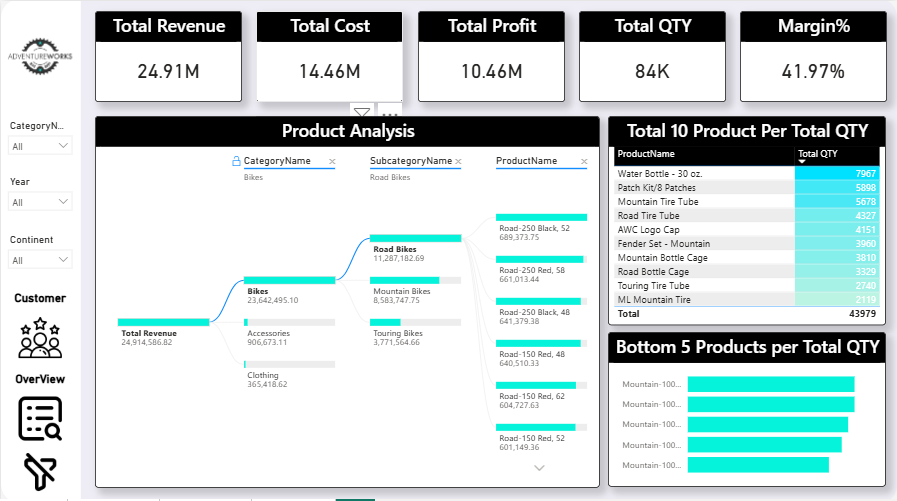

Layout of this report page (visuals, bound fields, positions):
{"tool":"powerbi","page":{"name":"Product","canvas":[1280,720],"ordinal":3},"visuals":[{"type":"card","title":"Total Revenue","fields":{"Values":["Calculation.Total Revenue"]},"box":[134.6,14.2,209.8,130.4],"z":0},{"type":"card","title":"Total Cost","fields":{"Values":["Calculation.Total Cost"]},"box":[365,14.2,209.8,130.4],"z":1000},{"type":"card","title":"Total Profit","fields":{"Values":["Calculation.Profit"]},"box":[595.3,14.2,209.8,130.4],"z":2000},{"type":"card","title":"Total QTY","fields":{"Values":["Calculation.Total QTY"]},"box":[825.6,14.2,209.8,130.4],"z":3000},{"type":"card","title":"Margin%","fields":{"Values":["Calculation.Margin Profit"]},"box":[1055.9,14.2,209.8,130.4],"z":4000},{"type":"slicer","fields":{"Values":["Dim_Product.CategoryName"]},"box":[0,164.4,112,65.2],"z":5000},{"type":"slicer","fields":{"Values":["Dim_Calendar.Date.Variation.Date Hierarchy.Year"]},"box":[0,243.8,112,65.2],"z":6000},{"type":"slicer","fields":{"Values":["Dim_Territory.Continent"]},"box":[0,327.4,112,65.2],"z":7000},{"type":"image","box":[0,14.2,112,130.4],"z":8000},{"type":"image","title":"Customer","box":[0,413.9,112,97.8],"z":9000},{"type":"image","title":"Product","box":[5.7,646.3,100.6,60.9],"z":10000},{"type":"image","title":"OverView","box":[0,530.1,112,97.8],"z":11000},{"type":"decompositionTreeVisual","title":"Product Analysis","fields":{"Analyze":["Calculation.Total Revenue"],"ExplainBy":["Dim_Product.CategoryName","Dim_Product.SubcategoryName","Dim_Product.ProductName"]},"box":[134.6,164.4,721.4,531.5],"z":11001},{"type":"tableEx","title":"Total 10 Product Per Total QTY","fields":{"Values":["Dim_Product.ProductName","Calculation.Total QTY"]},"box":[867.4,164.4,396.9,299.1],"z":11002},{"type":"clusteredBarChart","title":"Bottom 5 Products per  Total QTY","fields":{"Category":["Dim_Product.ProductName"],"Y":["Calculation.Total QTY"]},"box":[867.4,473.4,396.9,221.1],"z":11003}]}

Visuals, with their boxes on the page's 1280x720 design canvas (x1, y1, x2, y2). These are canvas units, not pixel positions in the 897x501 screenshot, which may show the page scaled, cropped or inside an application window:
"Total Revenue" card: region(135, 14, 344, 145)
"Total Cost" card: region(365, 14, 575, 145)
"Total Profit" card: region(595, 14, 805, 145)
"Total QTY" card: region(826, 14, 1035, 145)
"Margin%" card: region(1056, 14, 1266, 145)
slicer - Dim_Product.CategoryName: region(0, 164, 112, 230)
slicer - Dim_Calendar.Date.Variation.Date Hierarchy.Year: region(0, 244, 112, 309)
slicer - Dim_Territory.Continent: region(0, 327, 112, 393)
image: region(0, 14, 112, 145)
"Customer" image: region(0, 414, 112, 512)
"Product" image: region(6, 646, 106, 707)
"OverView" image: region(0, 530, 112, 628)
"Product Analysis" decompositionTreeVisual: region(135, 164, 856, 696)
"Total 10 Product Per Total QTY" tableEx: region(867, 164, 1264, 464)
"Bottom 5 Products per  Total QTY" clusteredBarChart: region(867, 473, 1264, 694)
